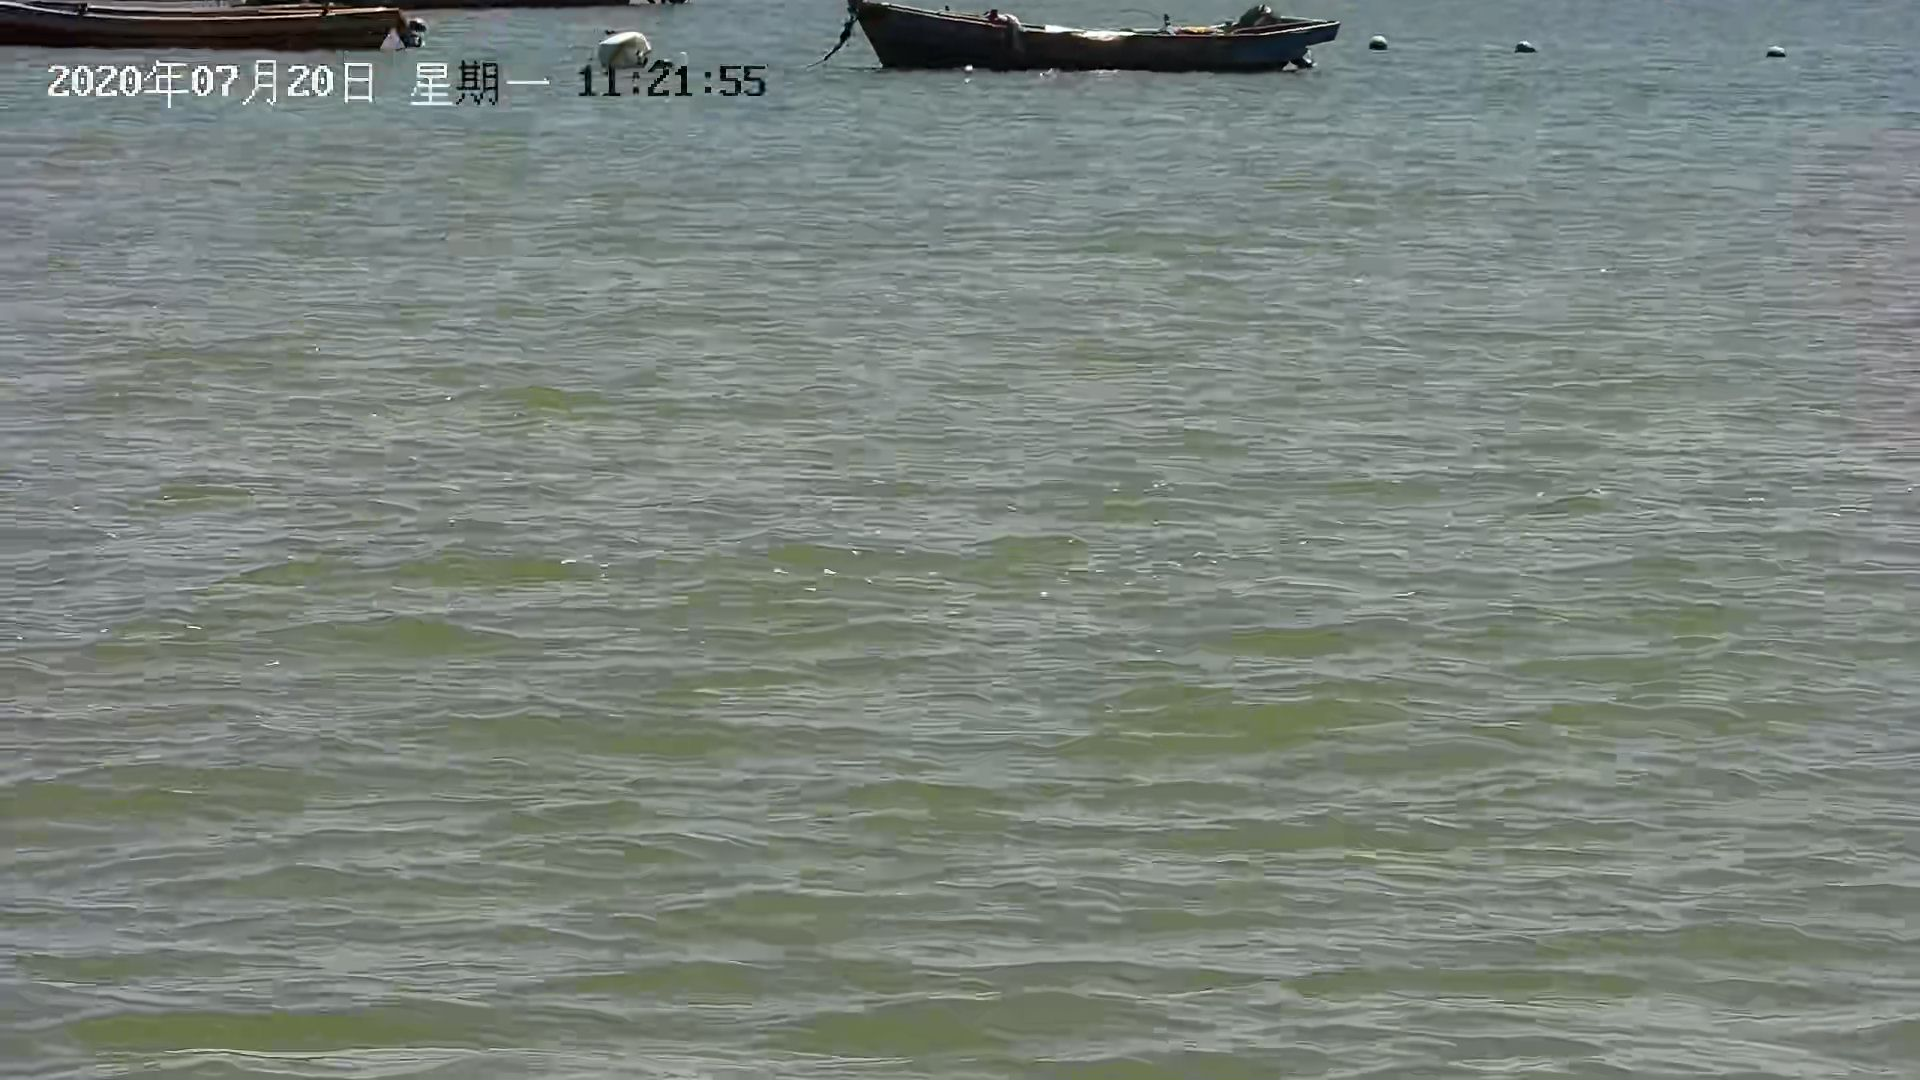ball: (585, 26, 678, 75), (1759, 33, 1792, 61), (1367, 28, 1398, 51), (1513, 42, 1538, 55)
boat: (847, 1, 1345, 92), (18, 1, 431, 70)
